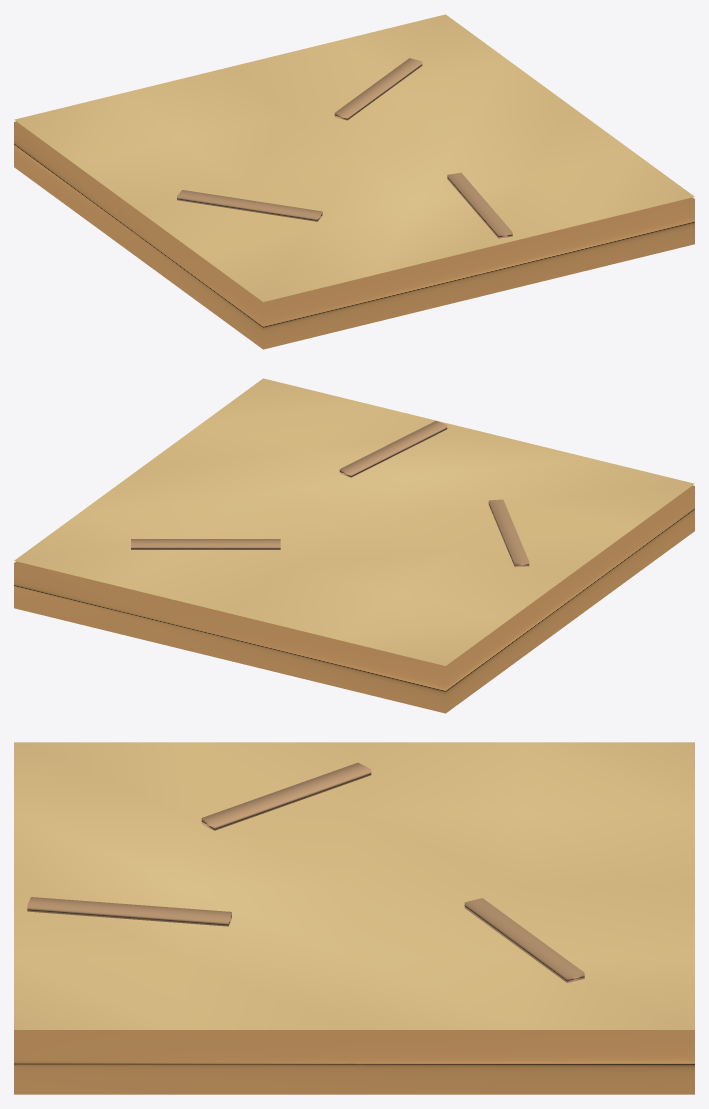
The model's file is tile_dry_grass.glb.
The picture shows the model from 3 angles, top to bottom: view 1: azimuth 30°, elevation 25°; view 2: azimuth 150°, elevation 25°; view 3: azimuth 270°, elevation 25°; orthographic projection. The views are drawn at different scales.
Parts seen in each view (by area): view 1: Tile.001; view 2: Tile.001; view 3: Tile.001.
Part boxes in pixels (bbox=[...]): Tile.001: bbox=[14, 14, 694, 349]; Tile.001: bbox=[14, 378, 694, 713]; Tile.001: bbox=[14, 742, 694, 1094].
Bounding box in the file's own units: 1 × 0.115 × 1.
